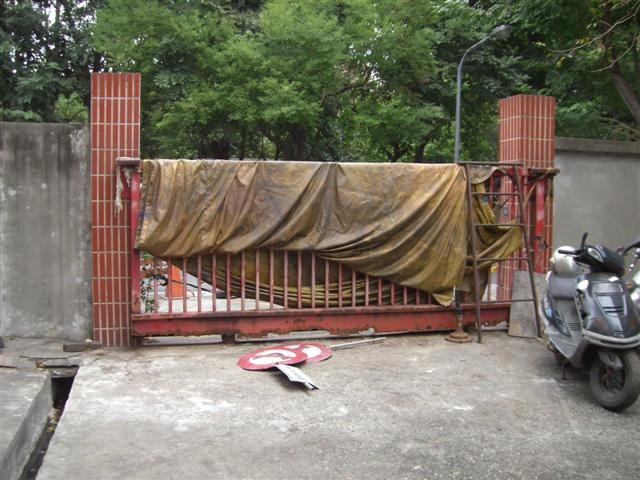plastic_bag: (137, 158, 523, 306)
